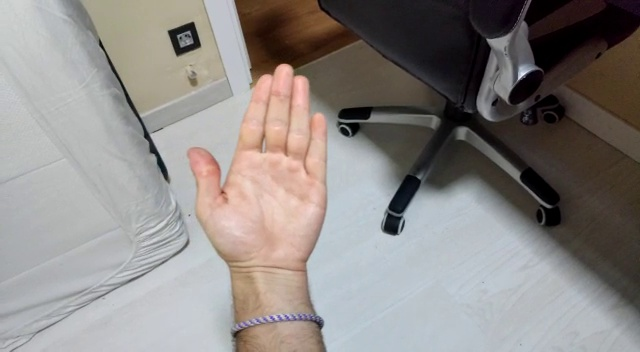Palm: (185, 61, 335, 285)
